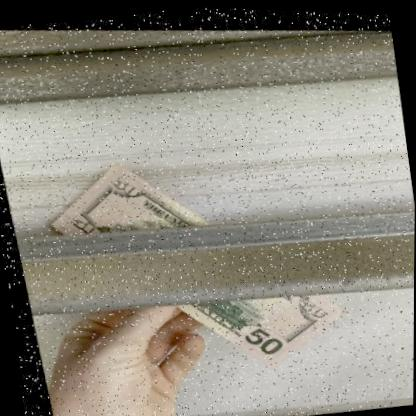dollar_back: (47, 158, 344, 363)
